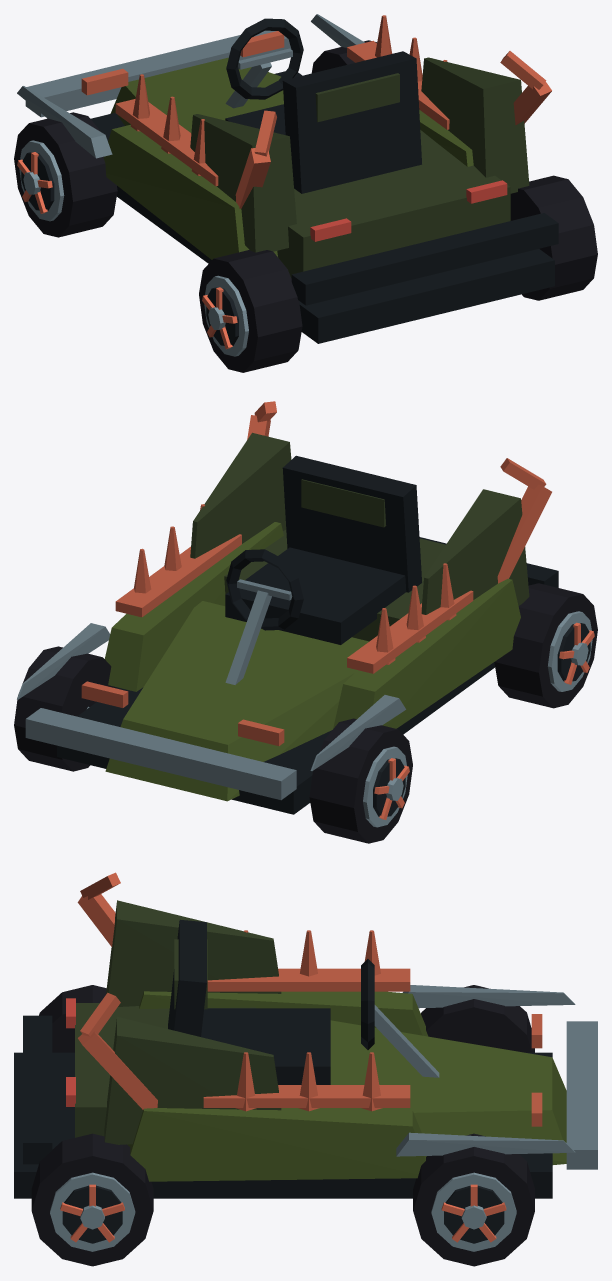
The model's file is kart.glb.
The picture shows the model from 3 angles, top to bottom: view 1: azimuth 30°, elevation 25°; view 2: azimuth 150°, elevation 25°; view 3: azimuth 270°, elevation 25°; orthographic projection. The views are drawn at different scales.
Parts seen in each view (by area): view 1: chassis, wheel-rear-left, wheel-front-left, wheel-rear-right, wheel-front-right; view 2: chassis, wheel-front-left, wheel-rear-left, wheel-front-right; view 3: chassis, wheel-rear-right, wheel-front-right, wheel-front-left, wheel-rear-left.
Boxes of the visible parts, x1,y1,x2,y2 form: chassis: (17,14,558,343); wheel-rear-left: (199,250,302,372); wheel-front-left: (14,112,117,237); wheel-rear-right: (510,175,597,300); wheel-front-right: (311,40,377,73); chassis: (17,401,558,814); wheel-front-left: (309,718,412,843); wheel-rear-left: (494,583,597,708); wheel-front-right: (14,646,116,771); chassis: (14,872,597,1198); wheel-rear-right: (31,1133,153,1266); wheel-front-right: (413,1133,534,1266); wheel-front-left: (421,985,534,1052); wheel-rear-left: (39,985,106,1052).
Bounding box in the file's own units: 2.23 × 1.38 × 2.97.
